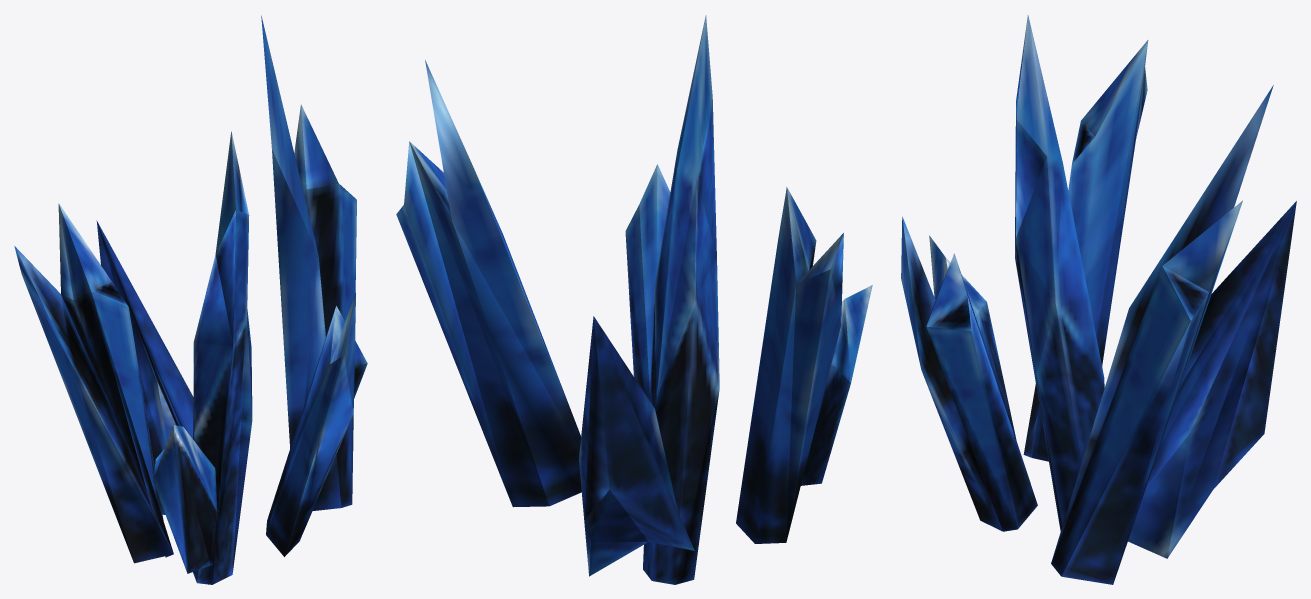
3 views of the same model, side by side, from view 1: azimuth 30°, elevation 25°; view 2: azimuth 150°, elevation 25°; view 3: azimuth 270°, elevation 25° (orthographic). The views are drawn at different scales.
Parts seen in each view (by area): view 1: bingzhui; view 2: bingzhui; view 3: bingzhui.
Boxes of the visible parts, left/top/right/bottom form: bingzhui: left=14, top=15, right=367, bottom=584; bingzhui: left=396, top=15, right=872, bottom=584; bingzhui: left=901, top=15, right=1296, bottom=584.
Size of the model in its own units: 57.05 by 70.8 by 46.27.
